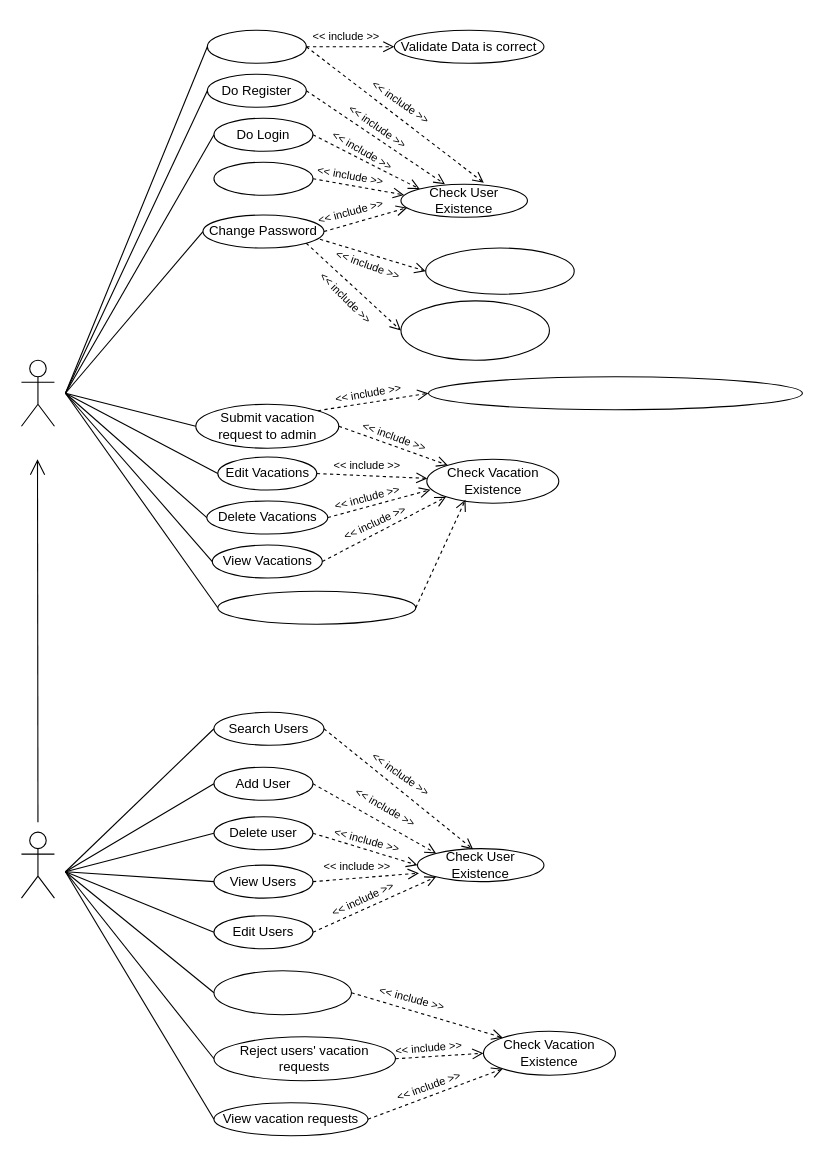
The diagram is 822 pixels wide and 1155 high, and some of its shapes have lost their labels. The centre of each missing label's shape, as x and y in pixels:
Admin: the point at 37,864
Approve users' vacation requests: the point at 282,992
Check password is different and not empty: the point at 474,330
Check password is valid: the point at 499,270
Check Vacation Time is not already in a existence vacation: the point at 614,393
Do Log Out: the point at 263,178
Edit Profile: the point at 256,46
User: the point at 37,392
View vacation request status: the point at 316,607
